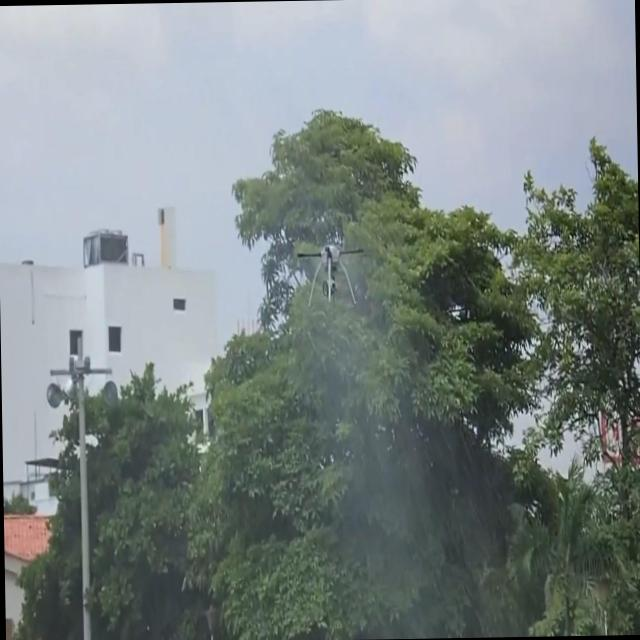drone: (296, 240, 366, 312)
